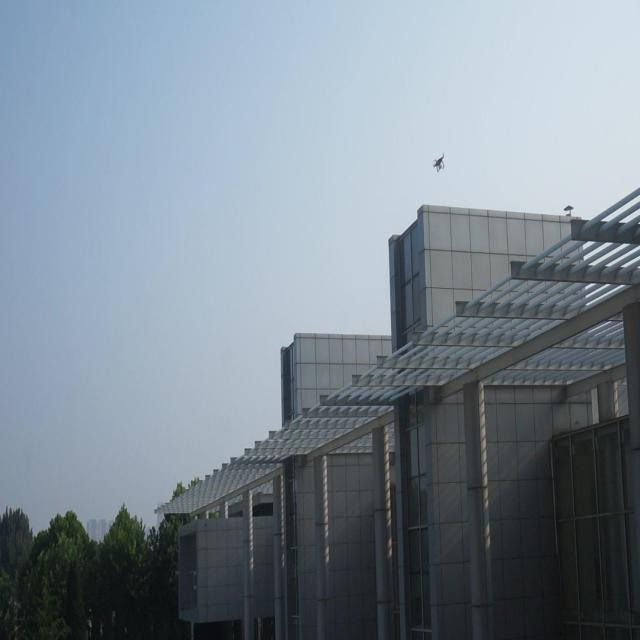UAV: (432, 152, 445, 173)
